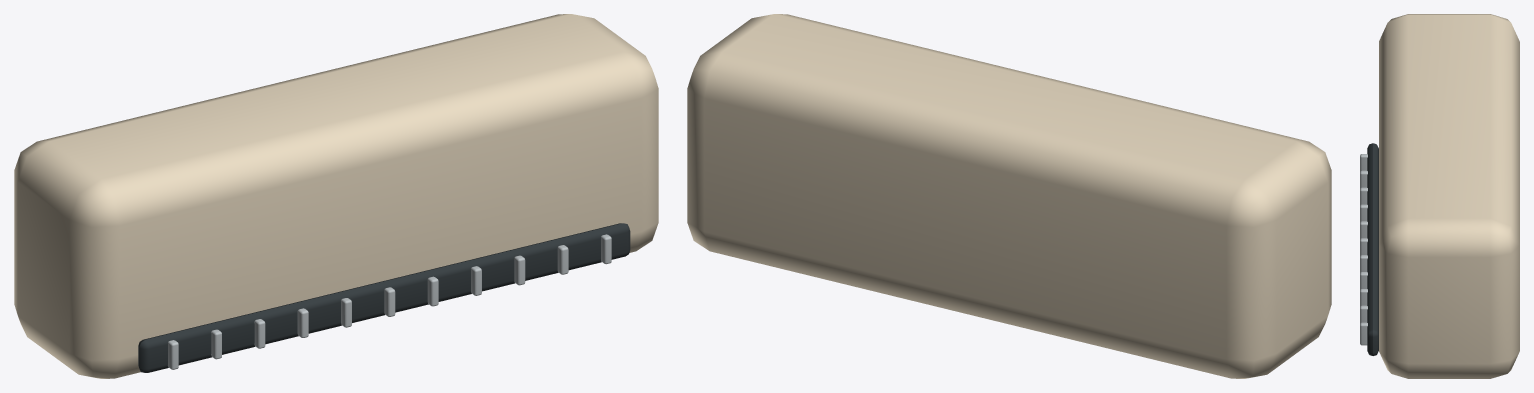
Rendered from wall_ac_cream.glb.
3 renders of one model, left to right at view 1: azimuth 30°, elevation 25°; view 2: azimuth 150°, elevation 25°; view 3: azimuth 270°, elevation 25°, orthographic. The views are drawn at different scales.
Visible parts, largest first — view 1: AC body, air outlet; view 2: AC body; view 3: AC body, air outlet, outlet vane.010.
Boxes of the visible parts, bbox=[...] form: AC body: bbox=[14, 14, 658, 378]; air outlet: bbox=[138, 223, 630, 372]; AC body: bbox=[687, 14, 1331, 378]; AC body: bbox=[1379, 14, 1519, 378]; air outlet: bbox=[1367, 143, 1378, 355]; outlet vane.010: bbox=[1360, 322, 1367, 345].
Bounding box in the file's own units: 0.92 × 0.3 × 0.272.
